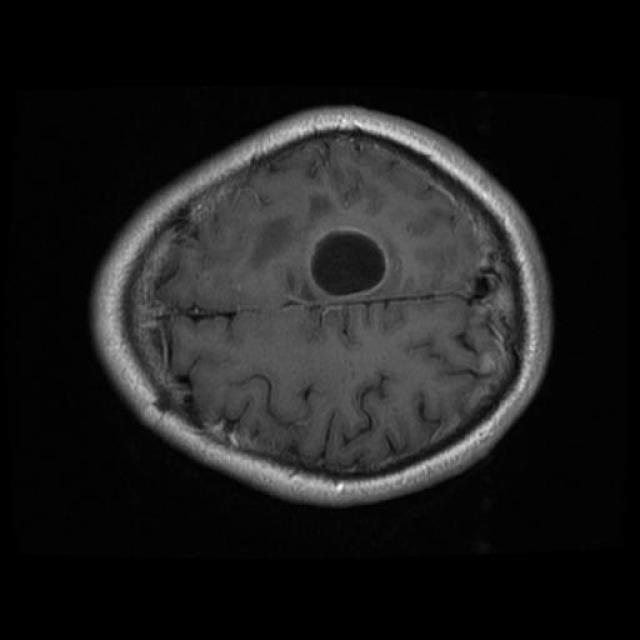Glioma: (312, 232, 385, 295)
